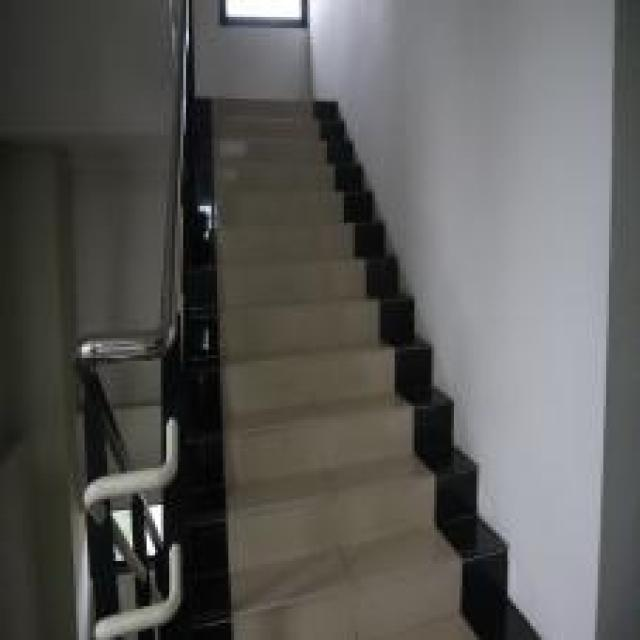upstair: (201, 153, 435, 638)
